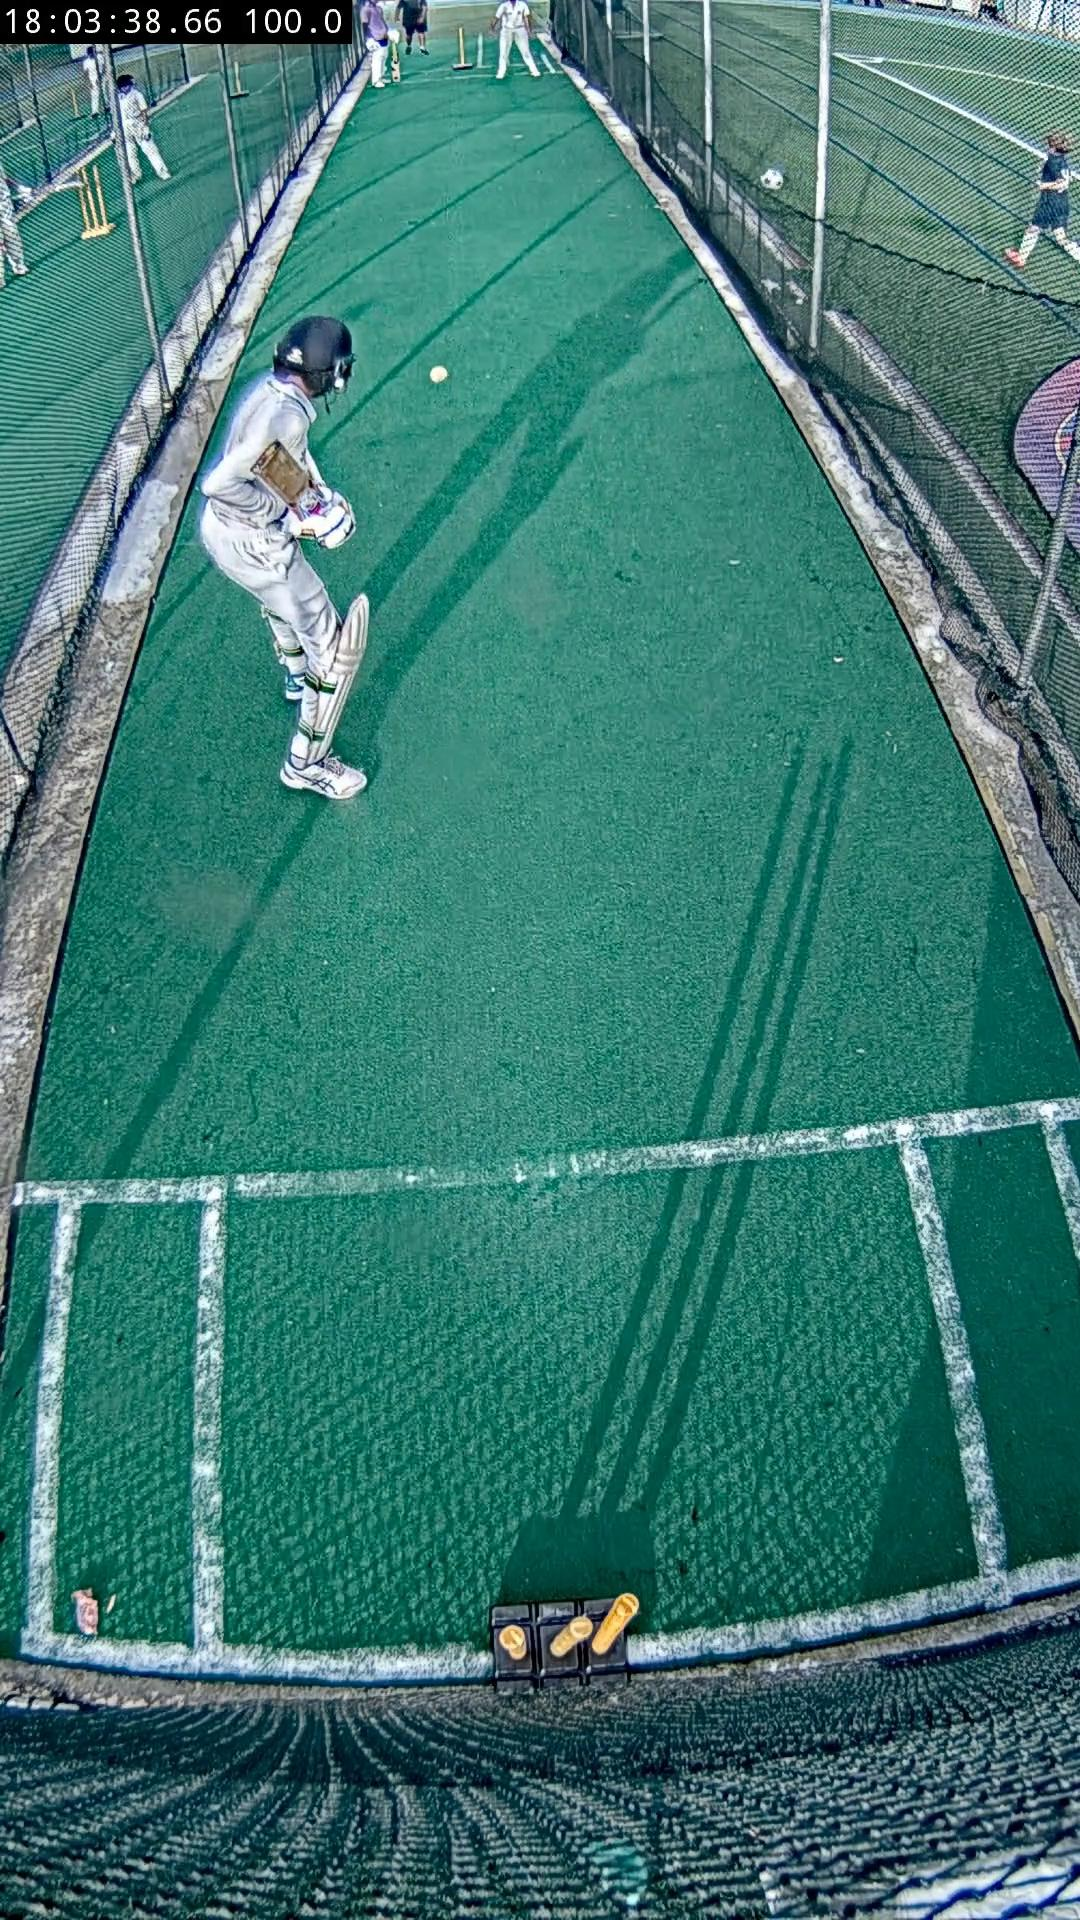ball: (431, 368, 450, 382)
bat: (252, 439, 323, 517)
gloves: (285, 492, 356, 547)
helmet: (274, 315, 352, 397)
pads: (311, 592, 368, 760)
stumps: (492, 1594, 641, 1695)
